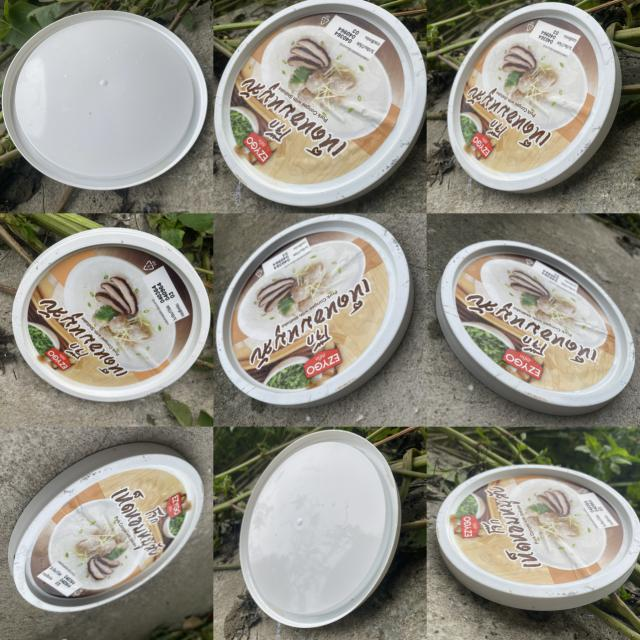Single-Use-Plastic: (215, 0, 426, 206), (216, 215, 412, 408), (2, 11, 208, 190), (436, 240, 635, 414), (12, 228, 210, 401), (9, 442, 204, 611), (448, 2, 621, 192), (240, 430, 401, 628), (436, 465, 640, 611)
